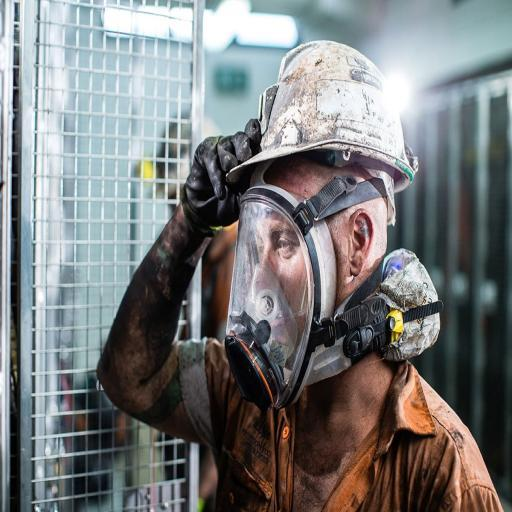mask: (218, 182, 338, 414)
